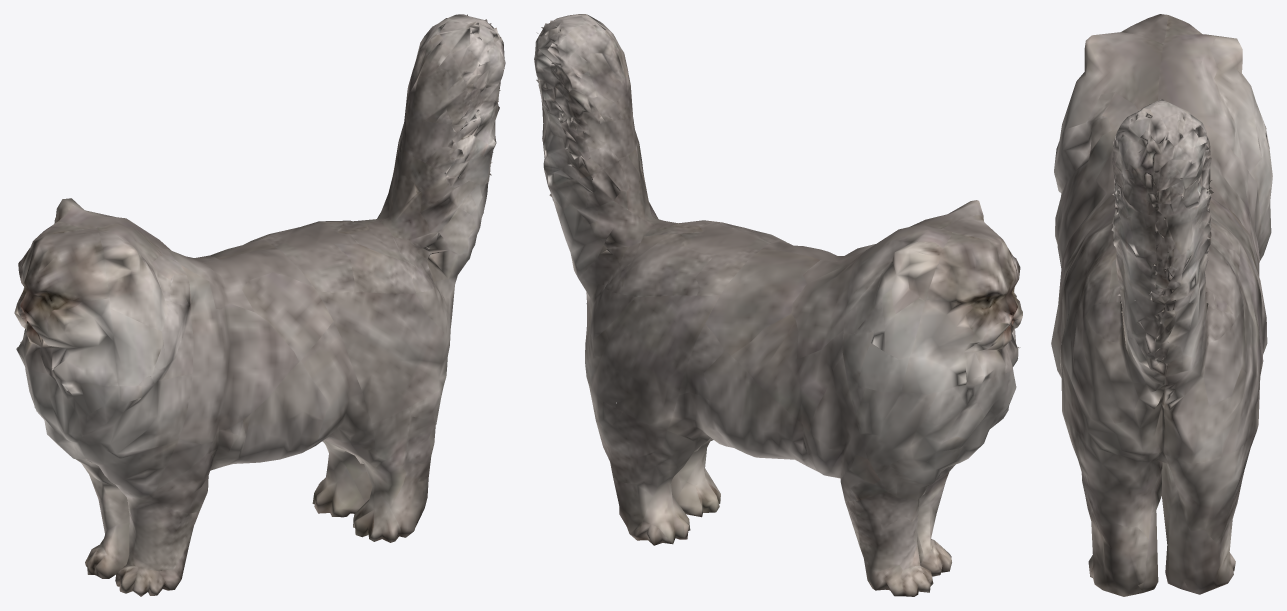
The model's file is CLIVECAT-lo.glb.
3 views of the same model, side by side, from view 1: azimuth 30°, elevation 25°; view 2: azimuth 150°, elevation 25°; view 3: azimuth 270°, elevation 25° (orthographic). The views are drawn at different scales.
Parts seen in each view (by area): view 1: tripo_node_0336a1d1-53c0-42aa-9d50-41682311eb4e; view 2: tripo_node_0336a1d1-53c0-42aa-9d50-41682311eb4e; view 3: tripo_node_0336a1d1-53c0-42aa-9d50-41682311eb4e.
Boxes of the visible parts, <box> form: tripo_node_0336a1d1-53c0-42aa-9d50-41682311eb4e: <box>14,14,505,596</box>; tripo_node_0336a1d1-53c0-42aa-9d50-41682311eb4e: <box>534,14,1022,596</box>; tripo_node_0336a1d1-53c0-42aa-9d50-41682311eb4e: <box>1051,14,1272,596</box>.
Size of the model in its own units: 1.04 by 0.9964 by 0.3788.
1 material, 1 textured.
